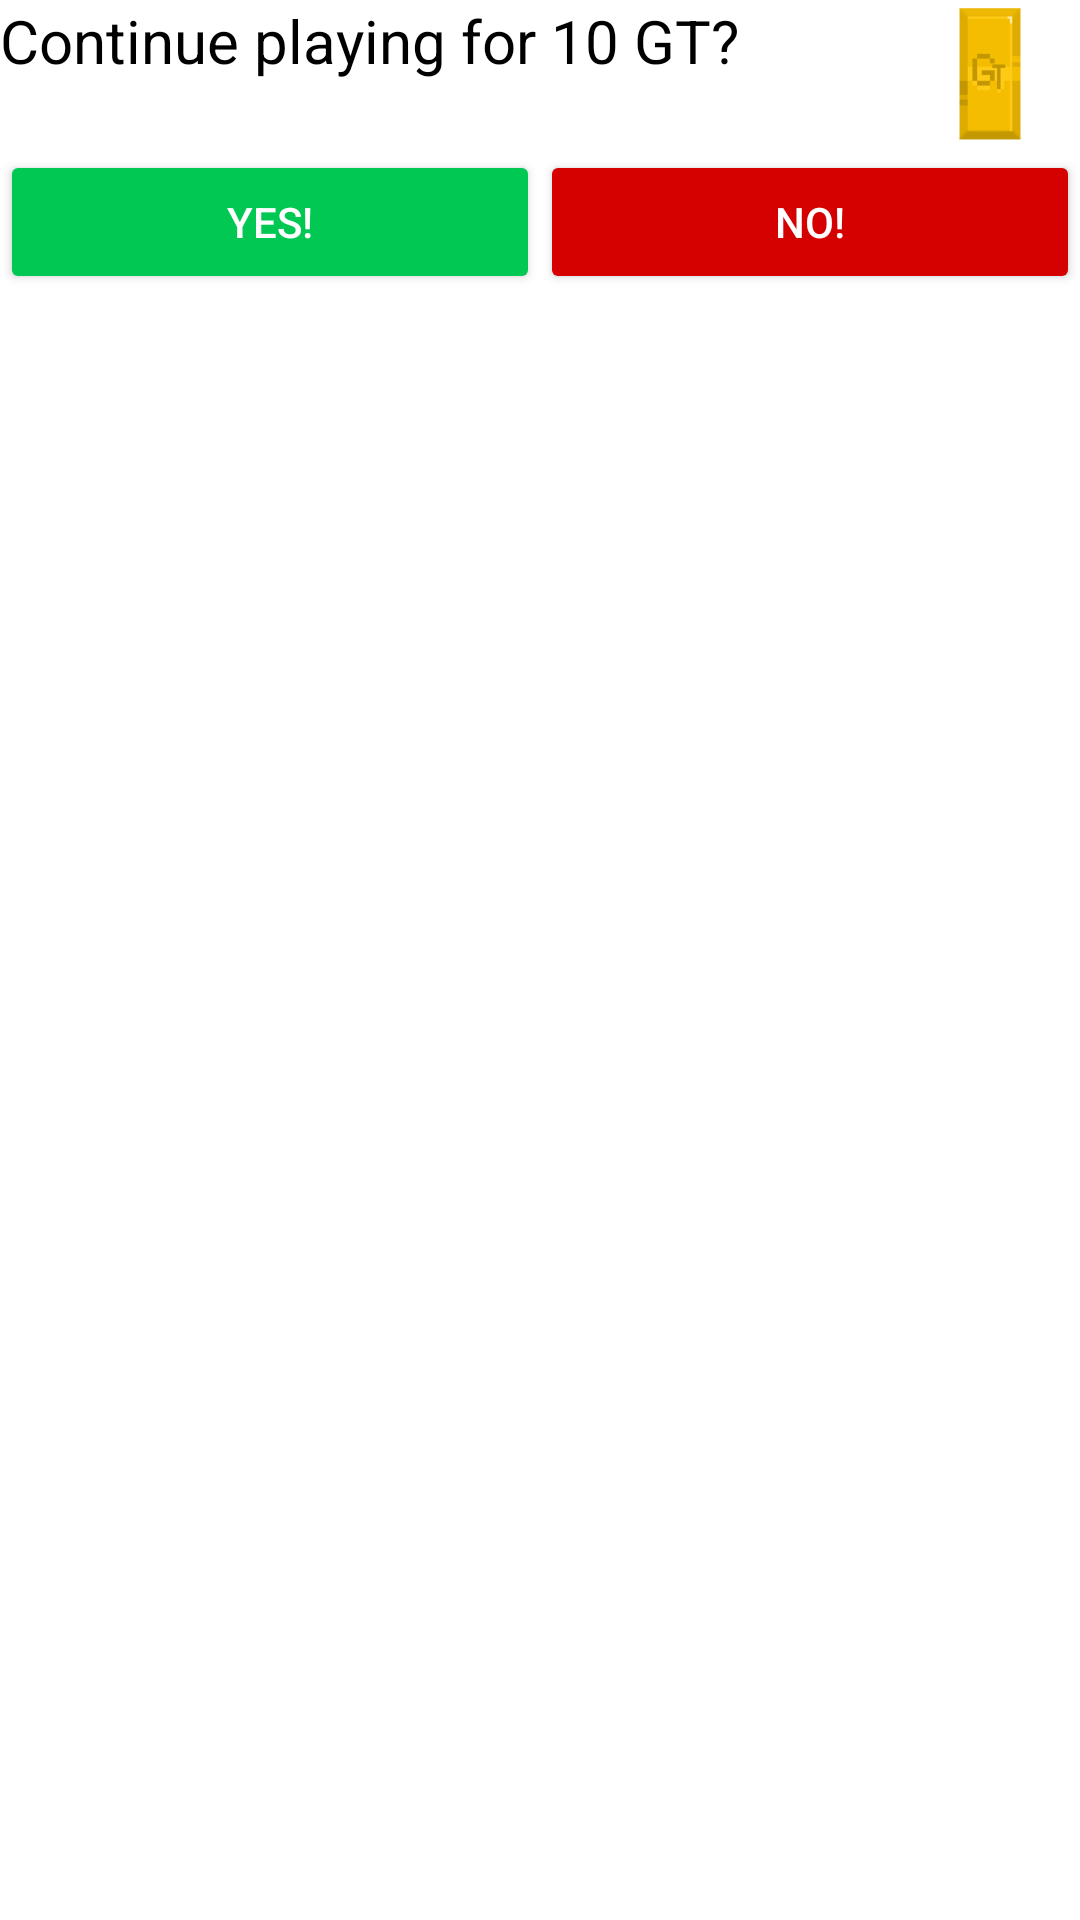

Screen size 1080px x 1920px. Icon name, then its box in pixels as (x1, y1, x2, y2):
golden tile: (959, 8, 1021, 140)
